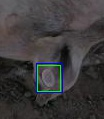text: (37, 65, 60, 91)
